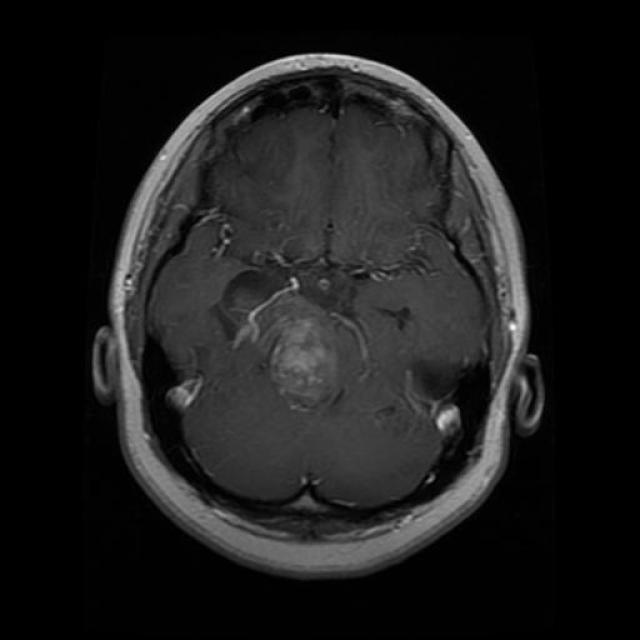Glioma: (268, 316, 338, 400)
